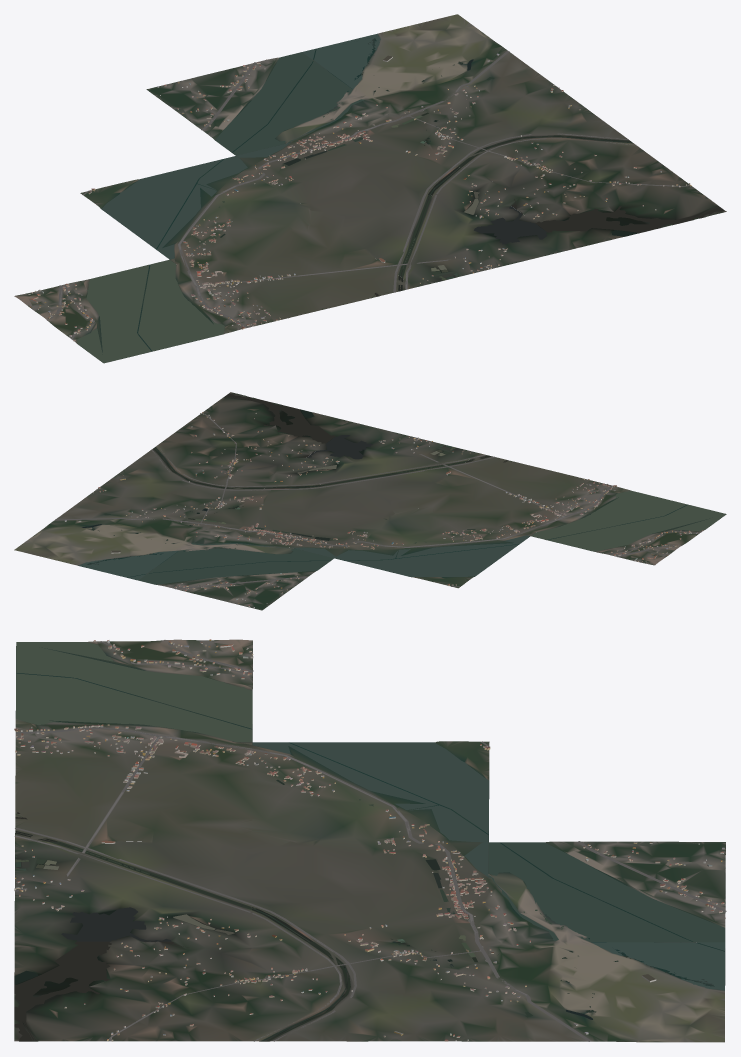
3 renders of one model, top to bottom at view 1: azimuth 30°, elevation 25°; view 2: azimuth 150°, elevation 25°; view 3: azimuth 270°, elevation 25°, orthographic. The views are drawn at different scales.
Visible parts, largest first — view 1: ground, water, buildings, roads; view 2: ground, water, buildings, roads; view 3: ground, water, buildings, roads.
Part boxes in pixels (bbox=[...]): ground: bbox=[14, 14, 726, 363]; water: bbox=[77, 33, 724, 363]; buildings: bbox=[28, 53, 691, 341]; roads: bbox=[47, 51, 689, 339]; ground: bbox=[14, 392, 720, 610]; water: bbox=[78, 393, 726, 584]; buildings: bbox=[64, 412, 703, 607]; roads: bbox=[55, 413, 700, 589]; ground: bbox=[14, 639, 725, 1042]; water: bbox=[14, 642, 725, 1041]; buildings: bbox=[14, 639, 725, 1041]; roads: bbox=[14, 640, 726, 1041].
Size of the model in its own units: 5612 by 25.35 by 4219.
